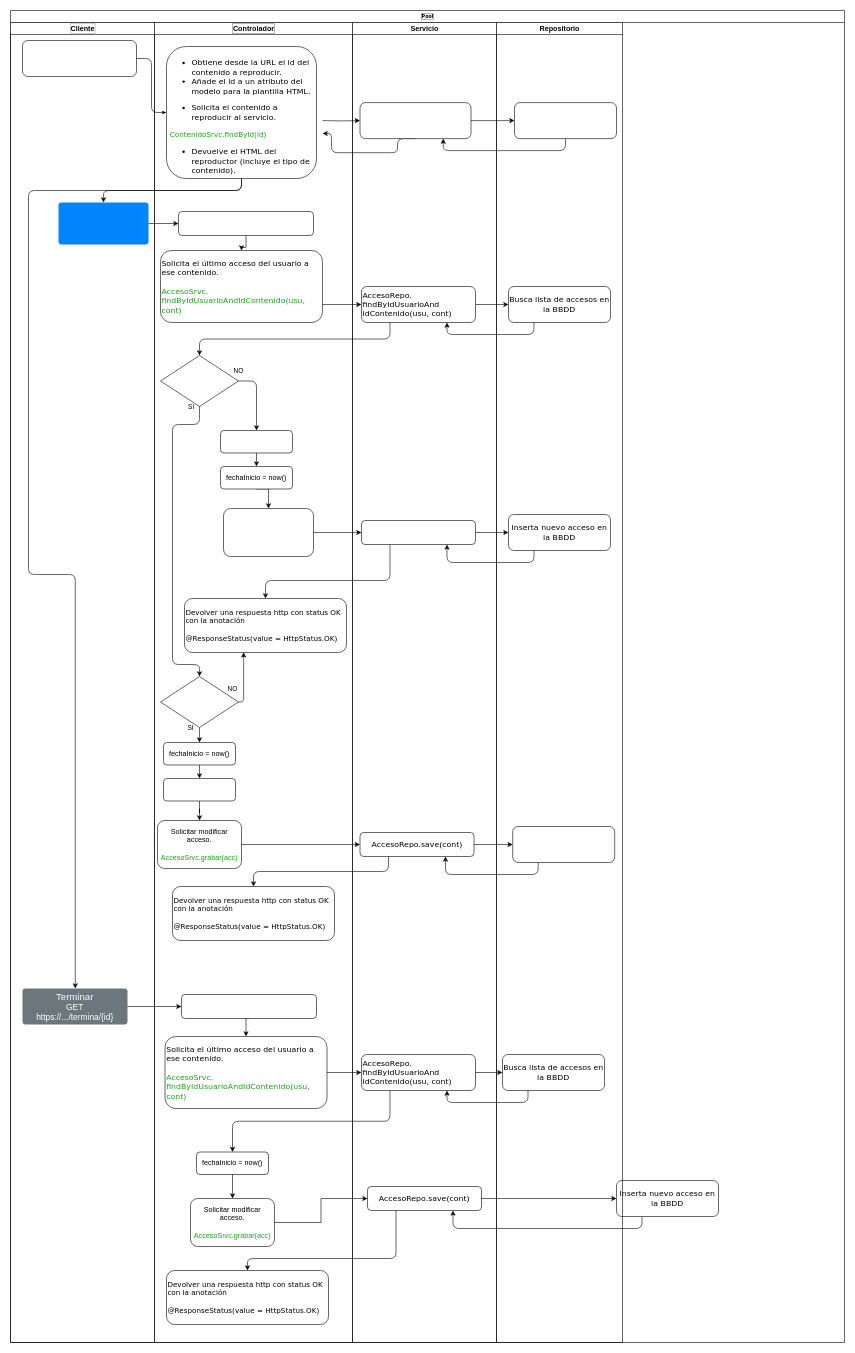
Image size: 855x1353. Some labels were removed from this diagram. Here are the shapes that lost their labels. From the top down, the centre of each, then its label:
At point (79, 58): "GET https://...reproducir/{id}".
At point (415, 120): "ContenidoRepo.findById(id)".
At point (565, 120): "Busca el contenido en la BBDD".
At point (103, 223): "Empezar GET https://.../empieza/{id}".
At point (246, 223): "Obtiene desde la URL el id del contenido a empezar.".
At point (199, 380): "¿Hay un acceso previo?".
At point (256, 441): "Crear instancia de acceso".
At point (268, 532): "Solicitar grabar nuevo acceso. AccesoSrvc.nuevo(acc)".
At point (418, 532): "AccesoRepo.nuevo(cont)".
At point (199, 702): "¿Hay fechaFin?".
At point (199, 789): "fechaFin = null".
At point (563, 844): "Actualiza el regsitro en la BBDD".
At point (248, 1006): "Obtiene desde la URL el id del contenido a terminar.".
